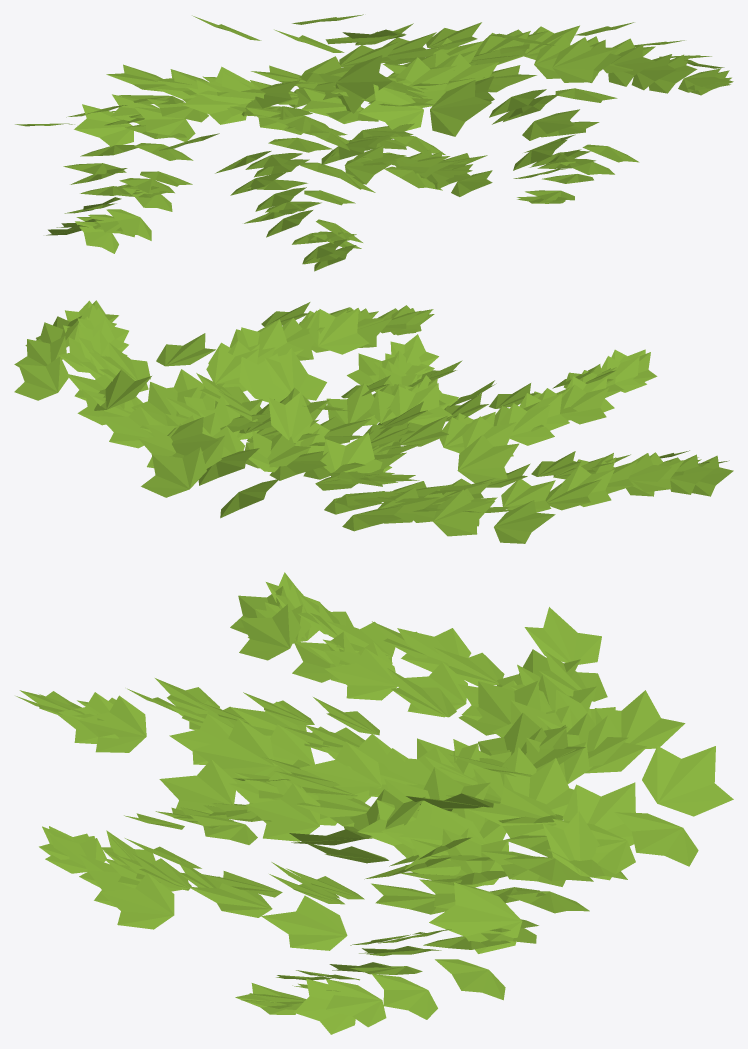
Rendered from vine-horizontal-d.fbx.
3 renders of one model, top to bottom at view 1: azimuth 30°, elevation 25°; view 2: azimuth 150°, elevation 25°; view 3: azimuth 270°, elevation 25°, orthographic. The views are drawn at different scales.
Parts seen in each view (by area): view 1: vine-horizontal-d; view 2: vine-horizontal-d; view 3: vine-horizontal-d.
Boxes of the visible parts, x1=… form: vine-horizontal-d: x1=15, y1=14, x2=733, y2=271; vine-horizontal-d: x1=14, y1=300, x2=733, y2=543; vine-horizontal-d: x1=16, y1=572, x2=733, y2=1034.
Bounding box in the file's own units: 3.04 × 0.2006 × 2.12.
